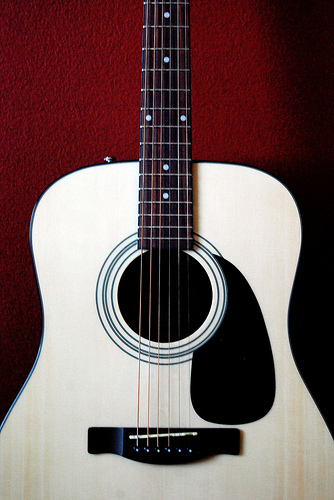guitar: (1, 1, 334, 500)
